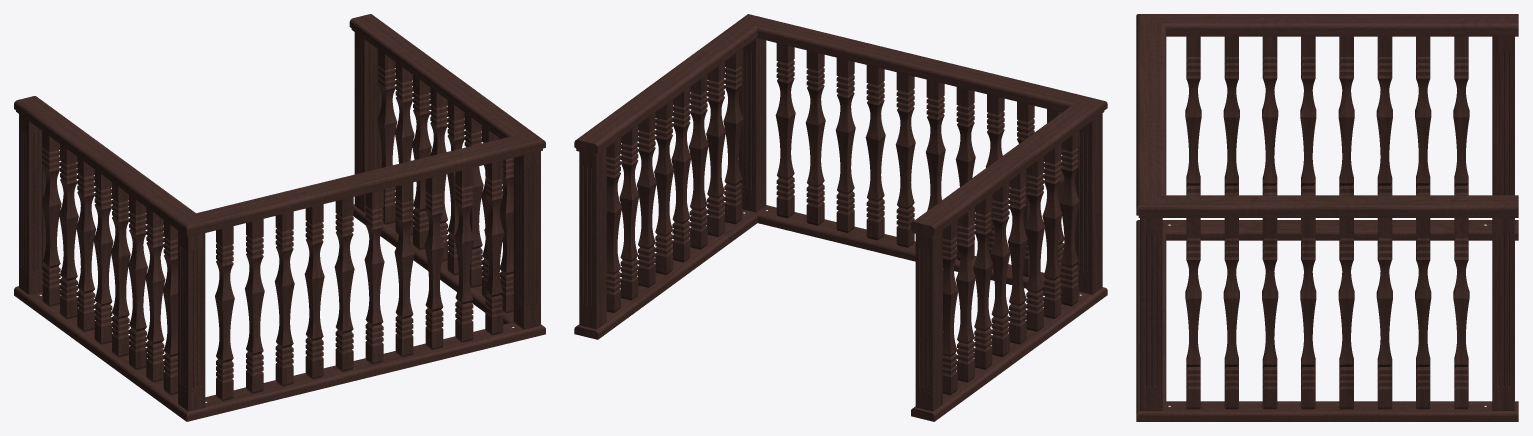
File: WoodenRailing.fbx
3 renders of one model, left to right at view 1: azimuth 30°, elevation 25°; view 2: azimuth 150°, elevation 25°; view 3: azimuth 270°, elevation 25°, orthographic. The views are drawn at different scales.
Parts seen in each view (by area): view 1: Balusters, Handrail, Posts, BaseRail; view 2: Balusters, Posts, Handrail, BaseRail; view 3: Balusters, Handrail, BaseRail, Posts.
Boxes of the visible parts, x1,y1,x2,y2 form: Balusters: (41, 49, 513, 401); Handrail: (14, 14, 545, 237); Posts: (19, 32, 540, 411); BaseRail: (14, 204, 545, 421); Balusters: (606, 43, 1079, 395); Posts: (579, 38, 1102, 411); Handrail: (574, 14, 1107, 237); BaseRail: (574, 205, 1107, 421); Balusters: (1185, 36, 1469, 409); Handrail: (1136, 14, 1518, 217); BaseRail: (1136, 220, 1518, 421); Posts: (1140, 36, 1514, 410).
Bounding box in the file's own units: 1.84 × 0.95 × 1.53.
Materials: 2 (1 with a texture image).
